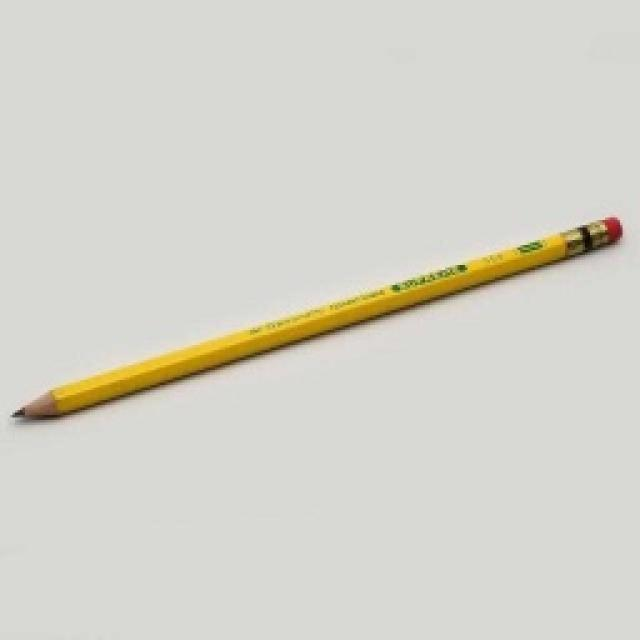pencil: (5, 210, 625, 425)
